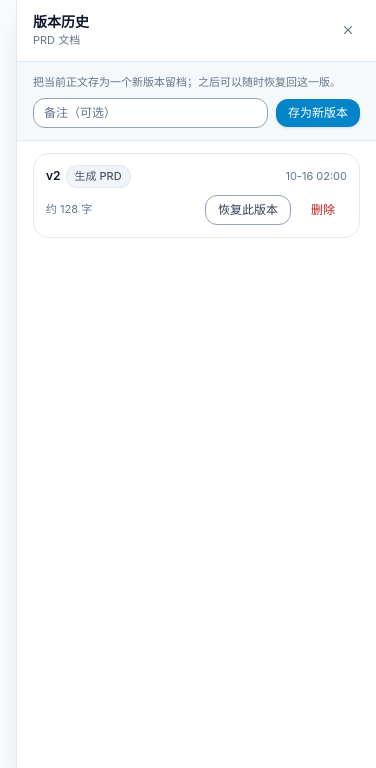
Test: VersionDrawer 的删除 › 点「删除」不直接抛事件，先出确认
What coordinates should you click on to do the following:
click the button "删除"
I would click on:
 (323, 210)
Its box is 299,196 -> 347,224.
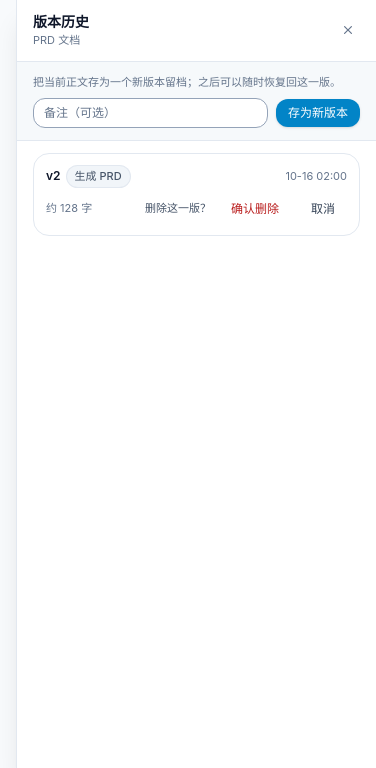
Result: the text "删除这一版？" is shown at 145,200 -> 211,217
